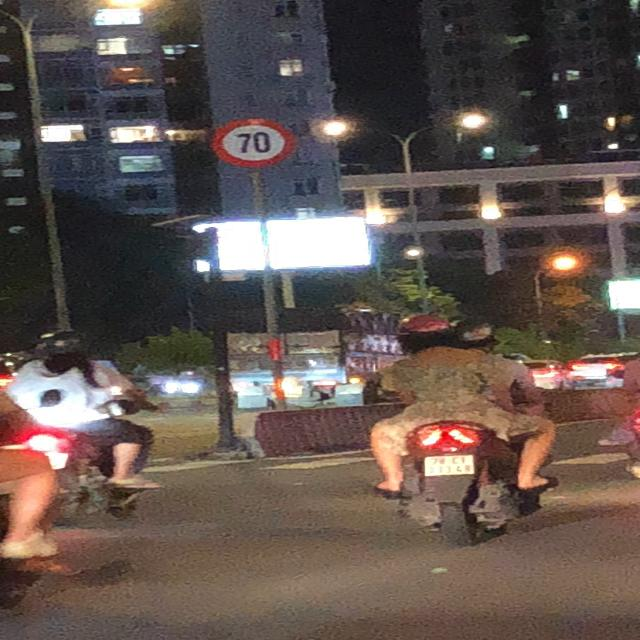Bien bao toc do toi da cho phep: (200, 114, 292, 168)
